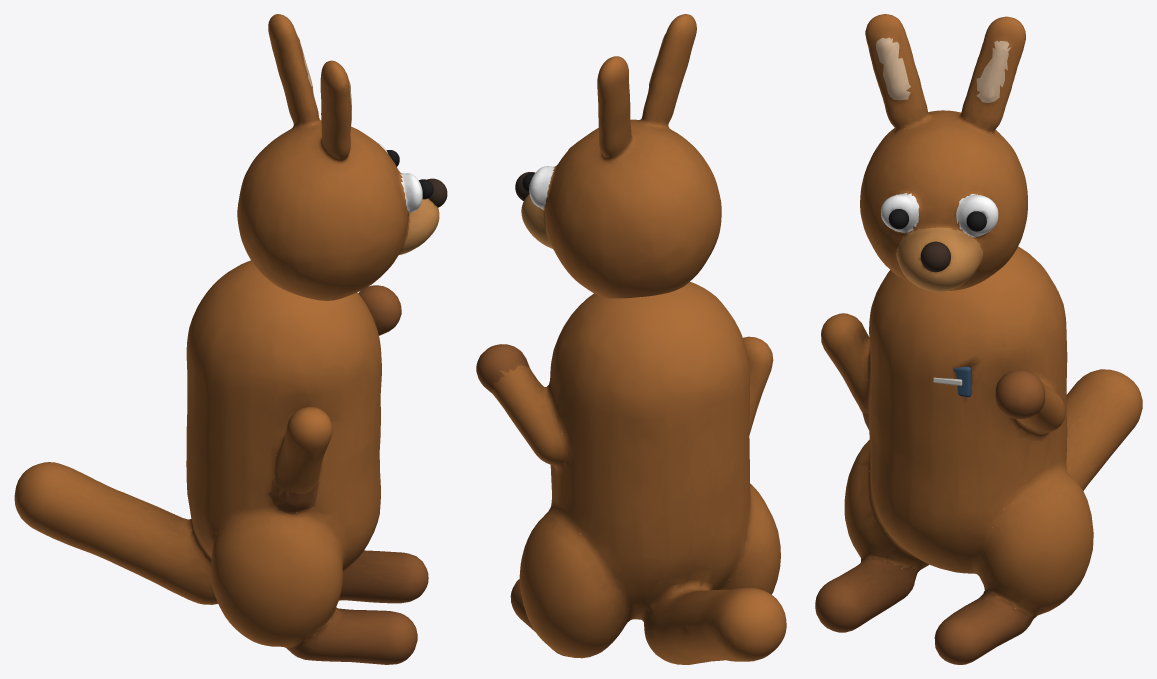
Rendered from kan-du-ta-det-en-gang-till.glb.
The picture shows the model from 3 angles, left to right: view 1: azimuth 30°, elevation 25°; view 2: azimuth 150°, elevation 25°; view 3: azimuth 270°, elevation 25°; orthographic projection. The views are drawn at different scales.
Visible parts, largest first — view 1: canguru__r0, cabeca__r0; view 2: canguru__r0, cabeca__r0; view 3: canguru__r0, cabeca__r0, cabeca__r1.
Boxes of the visible parts, <box> form: canguru__r0: <box>14,260,428,664</box>; cabeca__r0: <box>237,14,439,300</box>; canguru__r0: <box>476,282,786,664</box>; cabeca__r0: <box>521,14,721,298</box>; canguru__r0: <box>815,246,1142,664</box>; cabeca__r0: <box>860,14,1027,291</box>; cabeca__r1: <box>920,241,950,272</box>.
Bounding box in the file's own units: 1.17 × 1.95 × 0.9658.
